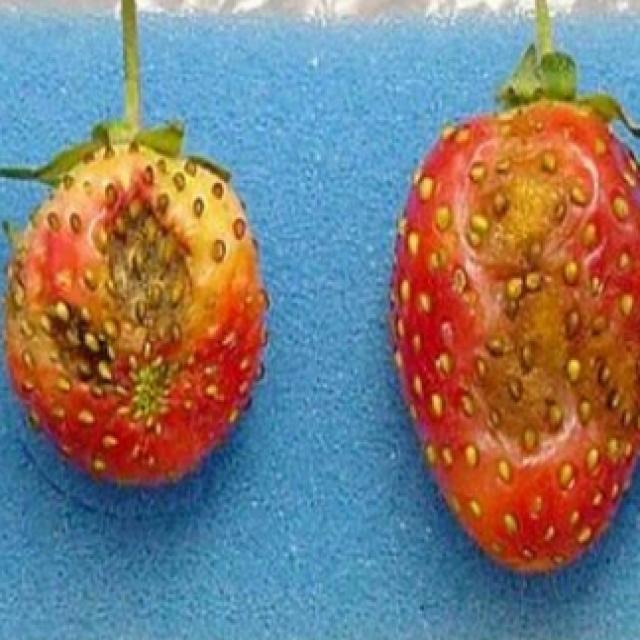Anthracnose Fruit Rot: (425, 94, 640, 476), (2, 161, 224, 438)
